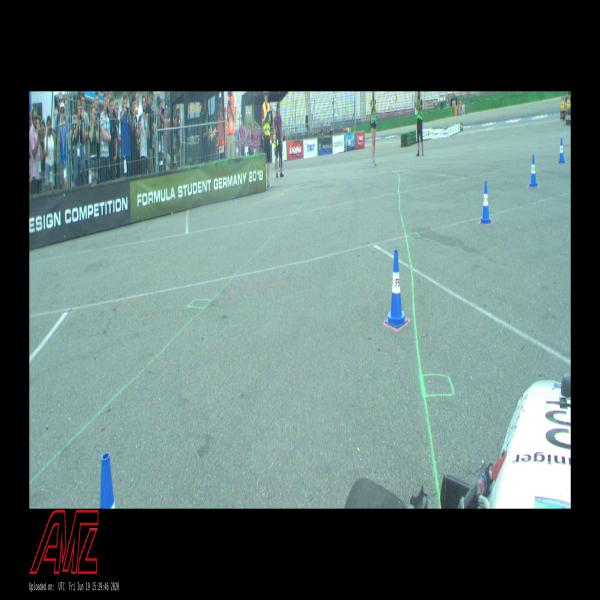blue_cone: (385, 250, 408, 328), (480, 181, 492, 223), (530, 155, 538, 187), (558, 138, 565, 163)
